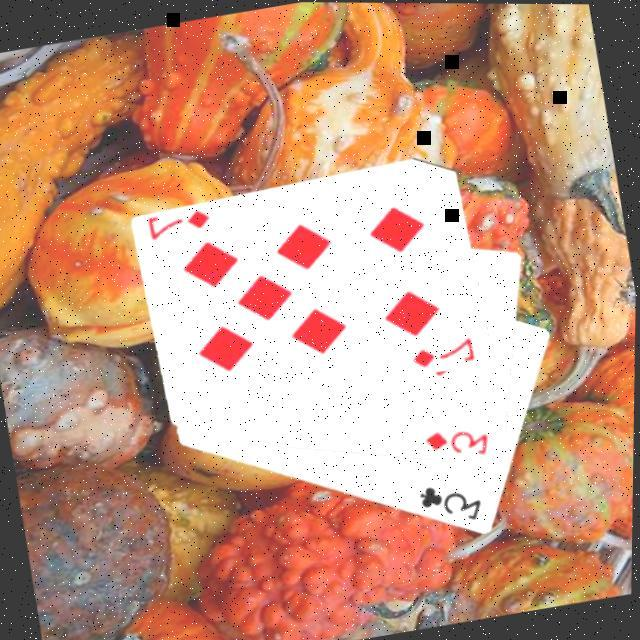3C: (417, 474, 491, 532)
3D: (422, 419, 498, 467)
7D: (409, 333, 482, 372), (147, 206, 219, 244)
